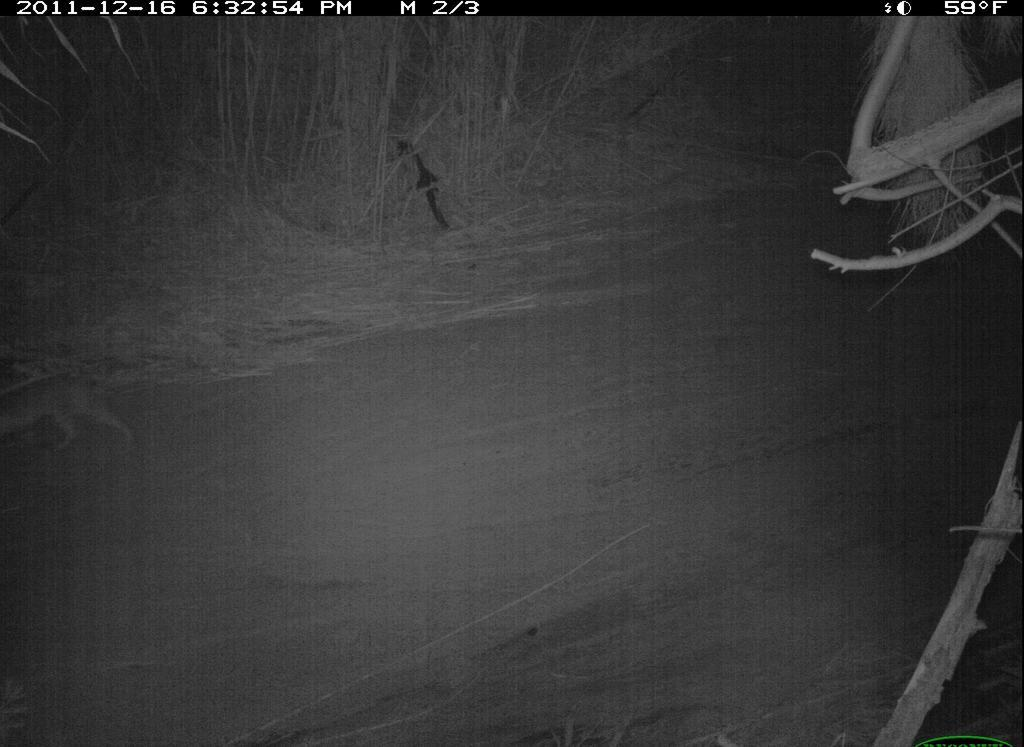bobcat: (2, 355, 150, 472)
